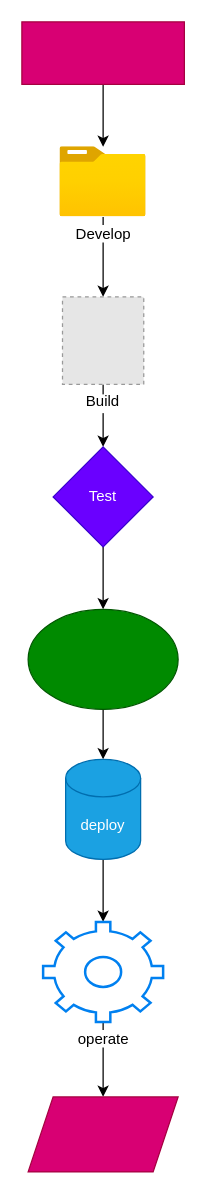
Image size: 206x1194. Some labels were removed from this diagram. Grey dashed boxes stand in for pictures. The shapes that lost their labels are listed below. From the top down, each one's centre as x and y in pixels, then its label:
pixel 102 52: plan
pixel 102 658: realise
